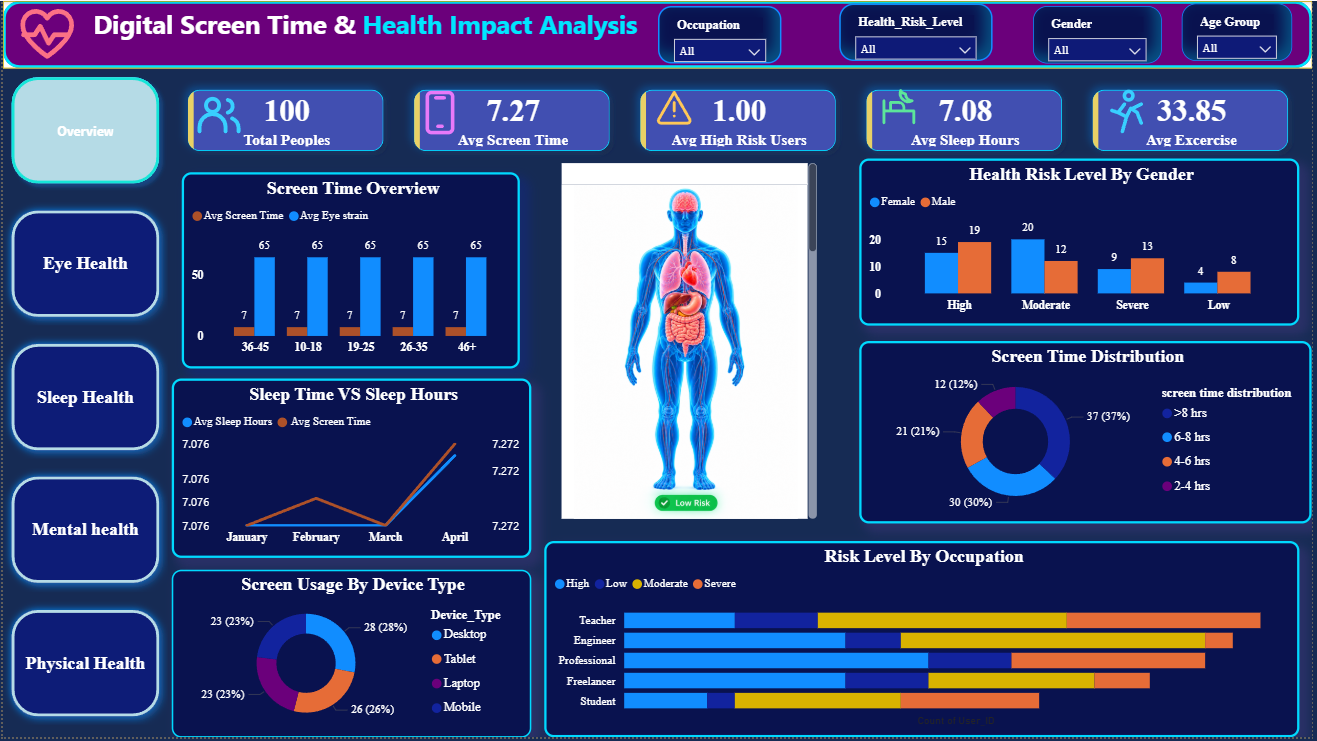

What the dashboard file says about the page in this screenshot:
{"tool":"powerbi","page":{"name":"Overview","canvas":[1366,768],"ordinal":0},"visuals":[{"type":"cardVisual","fields":{"Data":["Count(Digital_Screen_Time_Health_Impact_100Rows.User_ID)","Avg(Digital_Screen_Time_Health_Impact_100Rows.Avg Screen Time)","Avg(Digital_Screen_Time_Health_Impact_100Rows.High Risk Users)","Avg(Digital_Screen_Time_Health_Impact_100Rows.Avg Sleep Hours)","Avg(Digital_Screen_Time_Health_Impact_100Rows.Avg Excercise)"]},"box":[171.8,71.8,1193.6,106.4],"z":2000},{"type":"pageNavigator","box":[0,70,172,685],"z":3000},{"type":"clusteredColumnChart","title":"Screen Time Overview","fields":{"Category":["Digital_Screen_Time_Health_Impact_100Rows.Age Group"],"Y":["Avg(Digital_Screen_Time_Health_Impact_100Rows.Avg Screen Time)","Avg(Digital_Screen_Time_Health_Impact_100Rows.Avg Eye strain)"]},"box":[186.7,178.8,353.1,204.4],"z":4000},{"type":"lineChart","title":"Sleep Time VS Sleep Hours","fields":{"Category":["Digital_Screen_Time_Health_Impact_100Rows.Date.Variation.Date Hierarchy.Month"],"Y":["Avg(Digital_Screen_Time_Health_Impact_100Rows.Avg Sleep Hours)"],"Y2":["Avg(Digital_Screen_Time_Health_Impact_100Rows.Avg Screen Time)"]},"box":[176,394,375,187],"z":5000},{"type":"donutChart","title":"Screen Usage By Device Type","fields":{"Y":["CountNonNull(Digital_Screen_Time_Health_Impact_100Rows.User_ID)"],"Category":["Digital_Screen_Time_Health_Impact_100Rows.Device_Type"]},"box":[176,593,375,175],"z":6000},{"type":"clusteredColumnChart","title":"Health Risk Level By Gender","fields":{"Category":["Digital_Screen_Time_Health_Impact_100Rows.Health_Risk_Level"],"Series":["Digital_Screen_Time_Health_Impact_100Rows.Gender"],"Y":["CountNonNull(Digital_Screen_Time_Health_Impact_100Rows.User_ID)"]},"box":[893.6,164.1,459,174.4],"z":7000},{"type":"donutChart","title":" Screen Time Distribution","fields":{"Category":["Digital_Screen_Time_Health_Impact_100Rows.screen time distribution"],"Y":["CountNonNull(Digital_Screen_Time_Health_Impact_100Rows.User_ID)"]},"box":[893.8,354.9,472.2,190.1],"z":8000},{"type":"barChart","title":"Risk Level By Occupation","fields":{"Series":["Digital_Screen_Time_Health_Impact_100Rows.Health_Risk_Level"],"Category":["Digital_Screen_Time_Health_Impact_100Rows.Occupation"],"Y":["CountNonNull(Digital_Screen_Time_Health_Impact_100Rows.User_ID)"]},"box":[564.8,563.5,787.8,204.8],"z":9000},{"type":"group","id":"g1","title":"Group 1","box":[880.4,89.8,109,42],"z":12000},{"type":"shape","box":[0,0,1366,70],"z":13000},{"type":"textbox","box":[0,0,1366,70],"z":14000},{"type":"slicer","fields":{"Values":["Digital_Screen_Time_Health_Impact_100Rows.Gender"]},"box":[1075,5,134,60],"z":15000},{"type":"slicer","fields":{"Values":["Digital_Screen_Time_Health_Impact_100Rows.Age Group"]},"box":[1230,3,115,60],"z":16000},{"type":"slicer","fields":{"Values":["Digital_Screen_Time_Health_Impact_100Rows.Health_Risk_Level"]},"box":[872,3,160,60],"z":17000},{"type":"slicer","fields":{"Values":["Digital_Screen_Time_Health_Impact_100Rows.Occupation"]},"box":[684,5,129,60],"z":18000},{"type":"image","box":[198,79,54,77],"z":19000},{"type":"image","box":[385,90,142,53],"z":20000},{"type":"image","box":[660,90,81,42],"z":21000},{"type":"image","box":[880.4,89.8,109,42],"z":21002,"group":"g1"},{"type":"image","box":[1142,90,64,53],"z":22000},{"type":"image","box":[7,0,79,70],"z":23000},{"type":"tableEx","fields":{"Values":["ImageUrl.Image_URL"]},"box":[576.5,164.3,277.8,380.9],"z":24501}]}

Visuals, with their boxes in screenshot pixels (x1, y1, x2, y2), scaled from the page's 1366x768 canvas onto the 1317x741 screenshot:
cardVisual - Count(Digital_Screen_Time_Health_Impact_100Rows.User_ID) x Avg(Digital_Screen_Time_Health_Impact_100Rows.Avg Screen Time): 166:69:1316:172
pageNavigator: 0:68:166:728
"Screen Time Overview" clusteredColumnChart: 180:173:520:370
"Sleep Time VS Sleep Hours" lineChart: 170:380:531:561
"Screen Usage By Device Type" donutChart: 170:572:531:740
"Health Risk Level By Gender" clusteredColumnChart: 862:158:1304:327
" Screen Time Distribution" donutChart: 862:342:1316:526
"Risk Level By Occupation" barChart: 545:544:1304:740
"Group 1" group: 849:87:954:127
shape: 0:0:1316:68
textbox: 0:0:1316:68
slicer - Digital_Screen_Time_Health_Impact_100Rows.Gender: 1036:5:1166:63
slicer - Digital_Screen_Time_Health_Impact_100Rows.Age Group: 1186:3:1297:61
slicer - Digital_Screen_Time_Health_Impact_100Rows.Health_Risk_Level: 841:3:995:61
slicer - Digital_Screen_Time_Health_Impact_100Rows.Occupation: 659:5:784:63
image: 191:76:243:151
image: 371:87:508:138
image: 636:87:714:127
image: 849:87:954:127
image: 1101:87:1163:138
image: 7:0:83:68
tableEx - ImageUrl.Image_URL: 556:159:824:526
